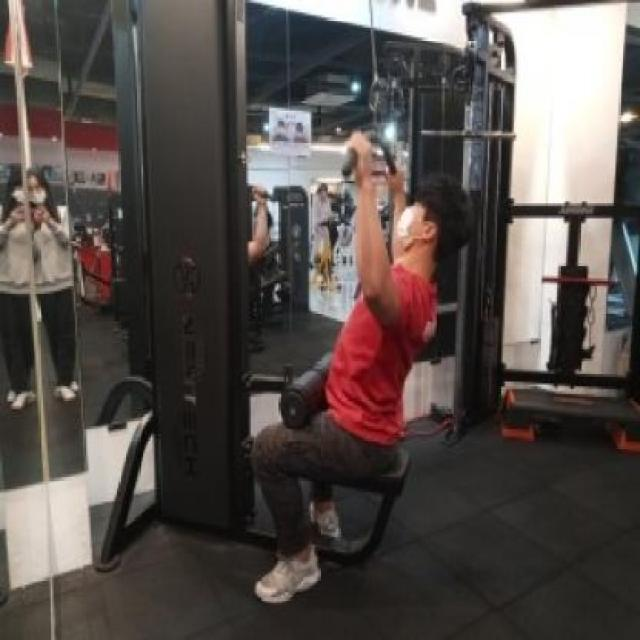Lat Pull Down: (115, 0, 477, 640)
